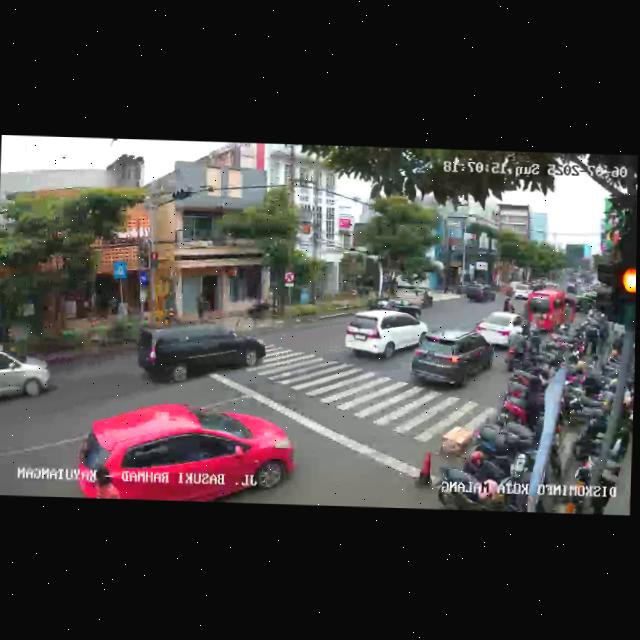car: (76, 400, 296, 504), (136, 318, 263, 388), (408, 329, 494, 395), (342, 307, 426, 363), (0, 346, 52, 413), (524, 287, 572, 334), (472, 310, 526, 349), (462, 283, 496, 305)
motorcycle: (419, 291, 436, 308)
